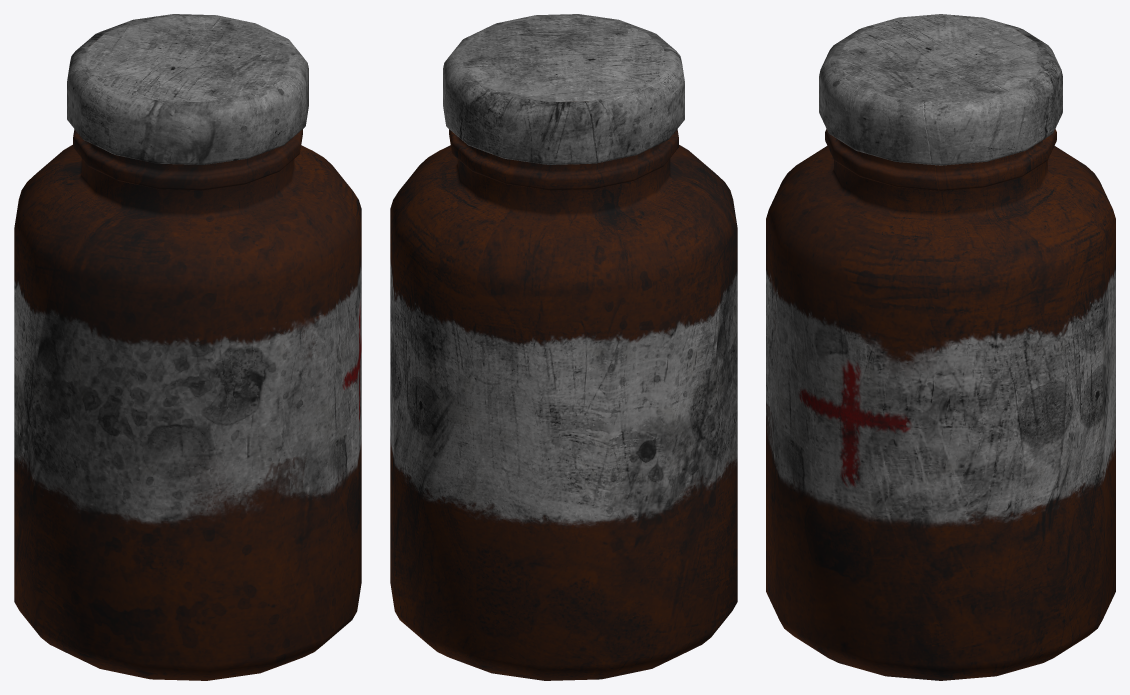
Rendered from medicina.fbx.
3 renders of one model, left to right at view 1: azimuth 30°, elevation 25°; view 2: azimuth 150°, elevation 25°; view 3: azimuth 270°, elevation 25°, orthographic.
Parts seen in each view (by area): view 1: pills_bottle1.001; view 2: pills_bottle1.001; view 3: pills_bottle1.001.
Boxes of the visible parts, x1,y1,x2,y2 form: pills_bottle1.001: [14, 14, 361, 680]; pills_bottle1.001: [390, 14, 737, 680]; pills_bottle1.001: [766, 14, 1115, 680].
Bounding box in the file's own units: 680 × 1222 × 680.
1 material, 1 textured.
